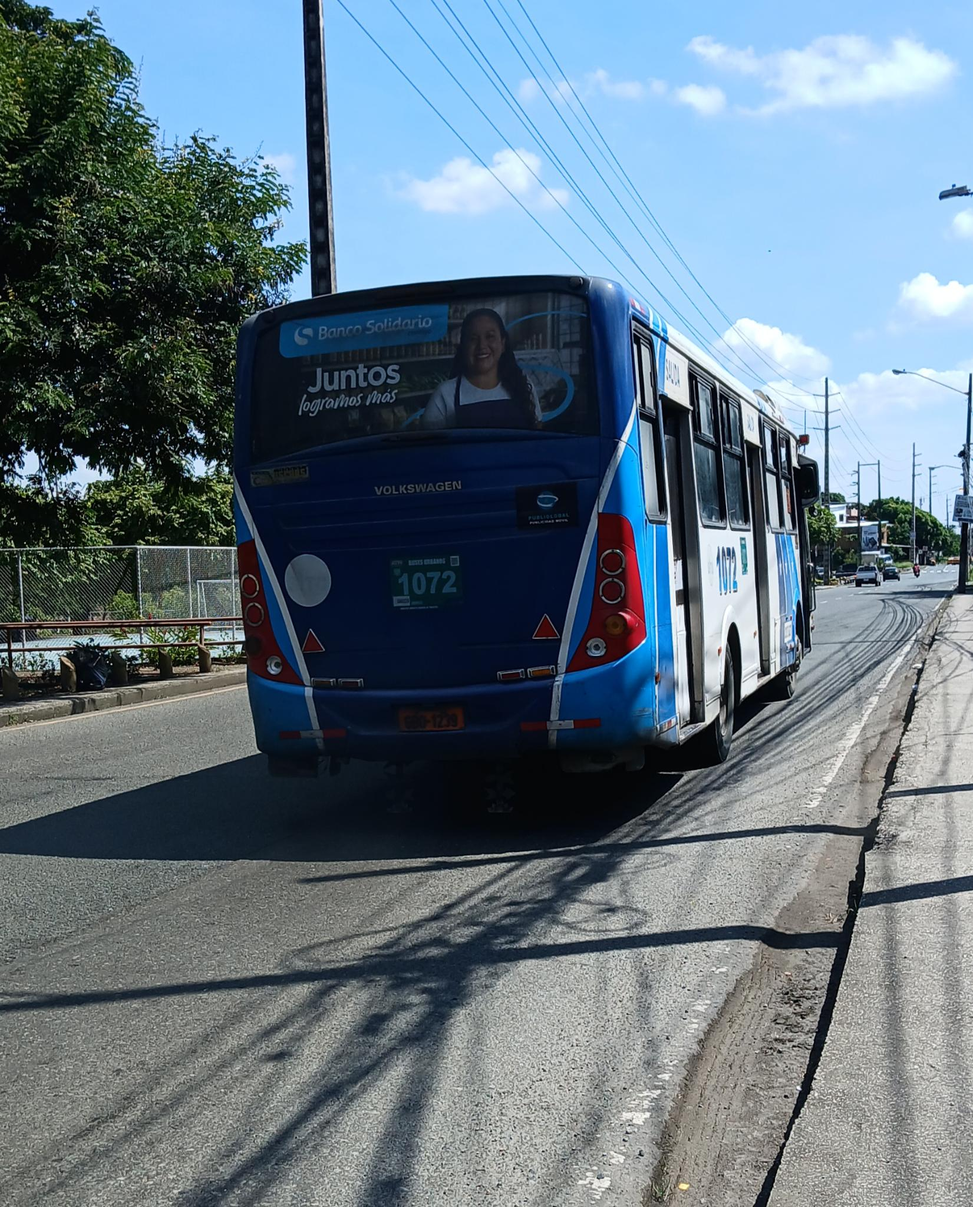license_plate: (396, 704, 466, 731)
